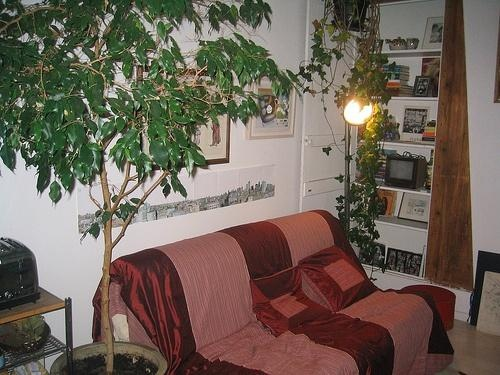pottedplant: (1, 1, 295, 375), (298, 1, 394, 282)
sofa: (93, 210, 456, 375)
tvmonitor: (385, 154, 429, 188)
